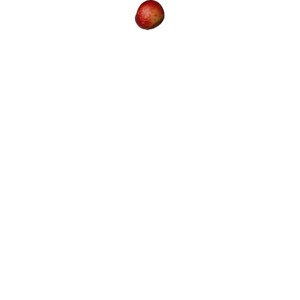nectarina: (136, 2, 165, 30)
